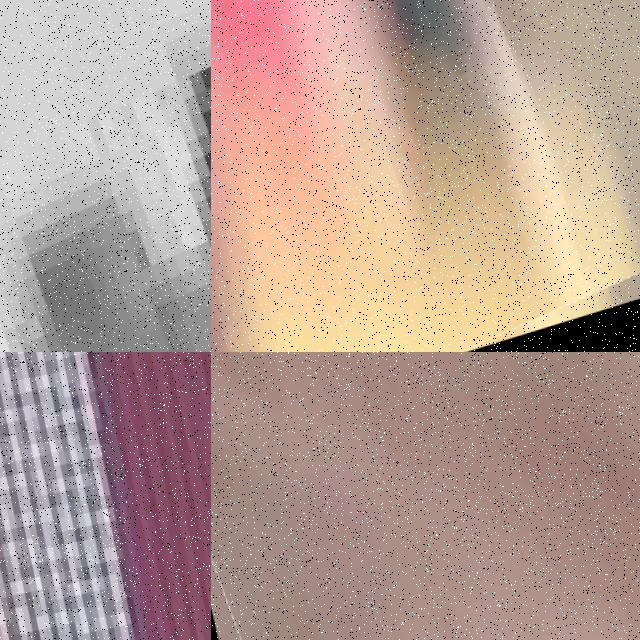drone: (211, 0, 640, 352), (211, 352, 640, 640), (0, 0, 211, 352)
